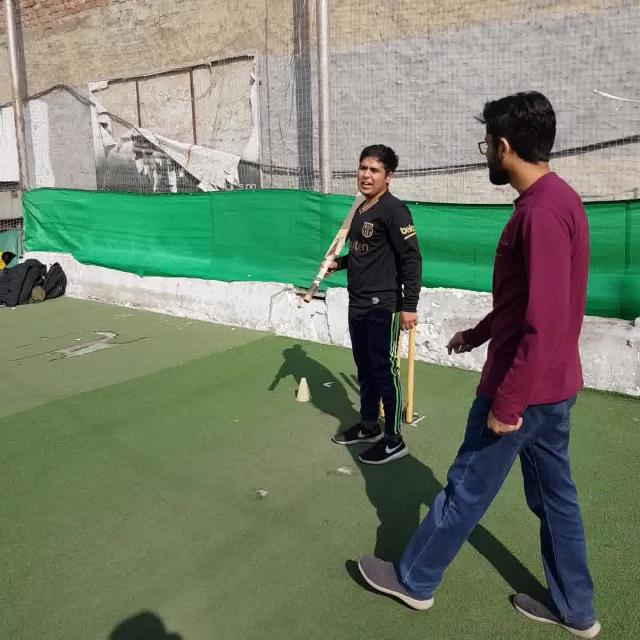bat: (304, 191, 367, 302)
